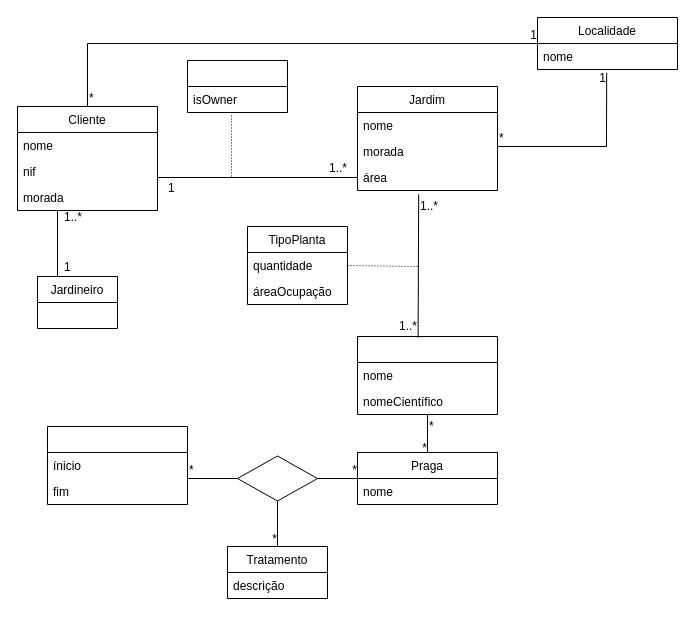
Some shapes in this 695 by 619 pixel diagram are drawn without their labels. Each missing label, with the box of its shape:
Exploração: (186, 60, 288, 112)
Planta: (356, 336, 498, 414)
Época: (46, 426, 188, 504)
